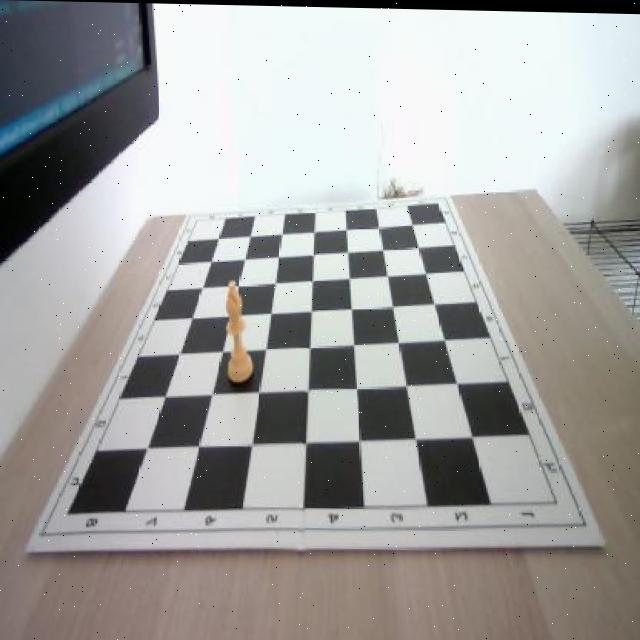black-rook: (225, 279, 254, 384)
